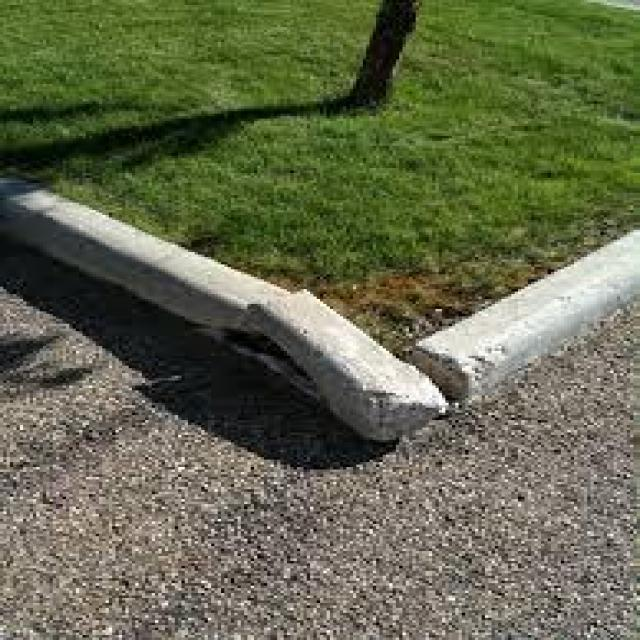curb: (13, 191, 295, 344), (396, 229, 627, 413), (246, 288, 453, 450)
